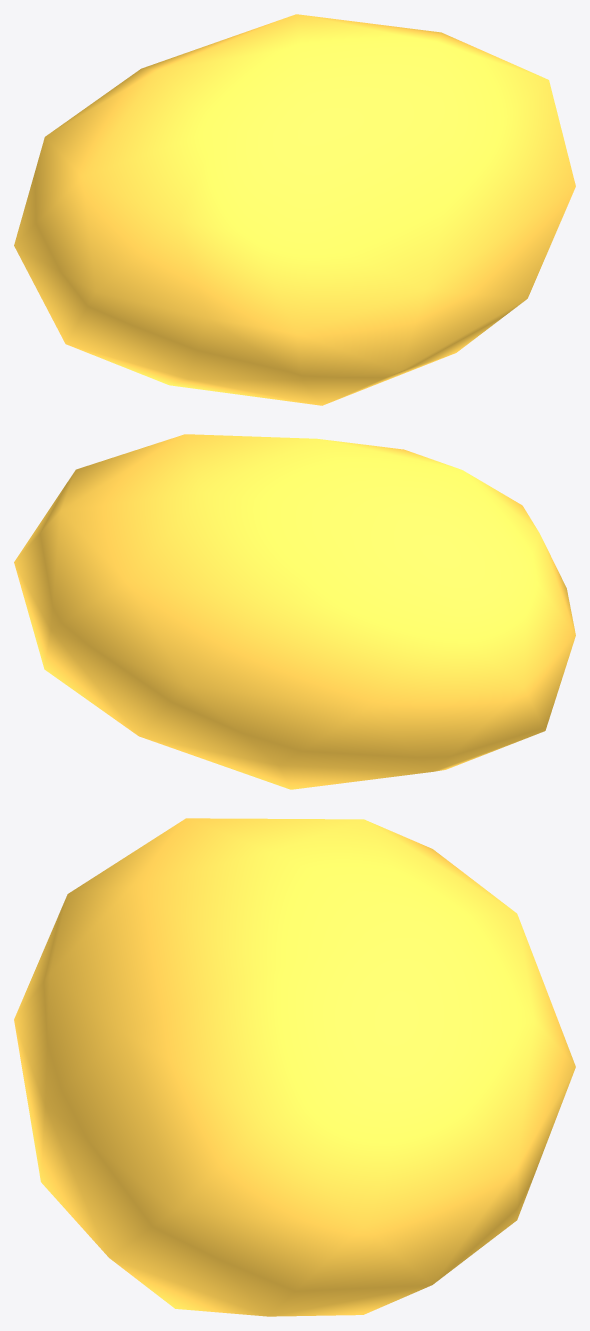
The model's file is jelly-bean-patio-lights-yellow.glb.
The picture shows the model from 3 angles, top to bottom: view 1: azimuth 30°, elevation 25°; view 2: azimuth 150°, elevation 25°; view 3: azimuth 270°, elevation 25°; orthographic projection. The views are drawn at different scales.
Parts seen in each view (by area): view 1: yellow; view 2: yellow; view 3: yellow.
Boxes of the visible parts, x1=… form: yellow: x1=14, y1=14, x2=575, y2=405; yellow: x1=14, y1=434, x2=575, y2=789; yellow: x1=14, y1=818, x2=575, y2=1316.
Size of what is drawn, in the model's own units: 0.671 by 0.4097 by 0.4995.
